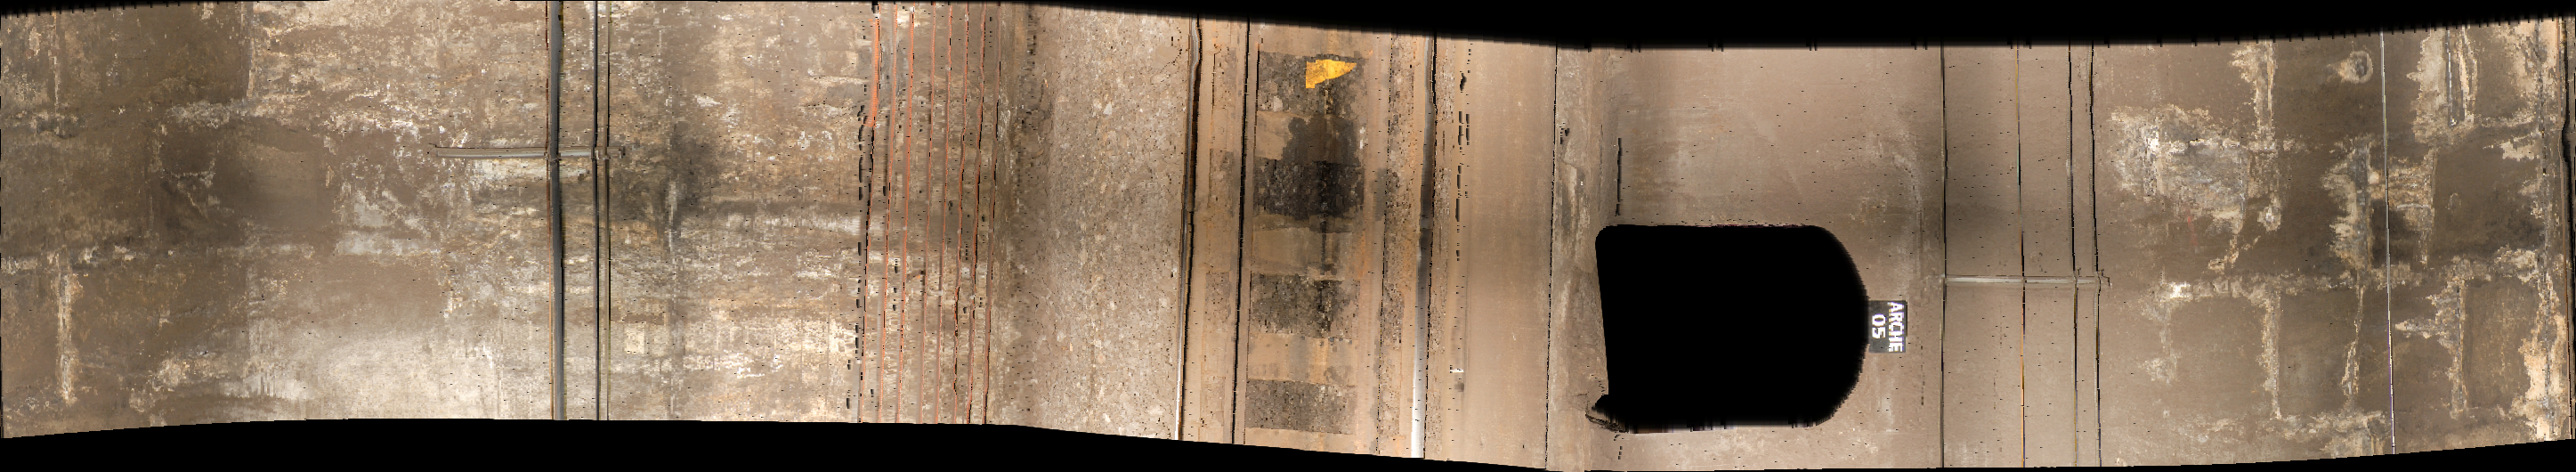pipes: (866, 2, 1014, 472), (539, 5, 631, 431), (2060, 41, 2114, 472), (2008, 41, 2037, 472), (1932, 41, 1957, 472)
sign: (1870, 298, 1912, 359)
tracks: (1173, 8, 1462, 472)
